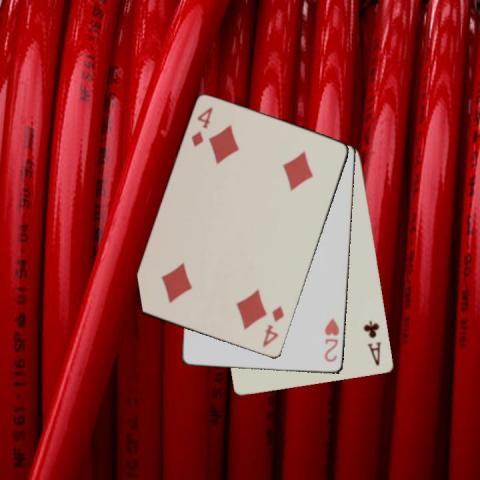2h: (322, 315, 342, 364)
4d: (260, 303, 286, 349), (189, 104, 214, 150)
Ac: (361, 318, 384, 367)
